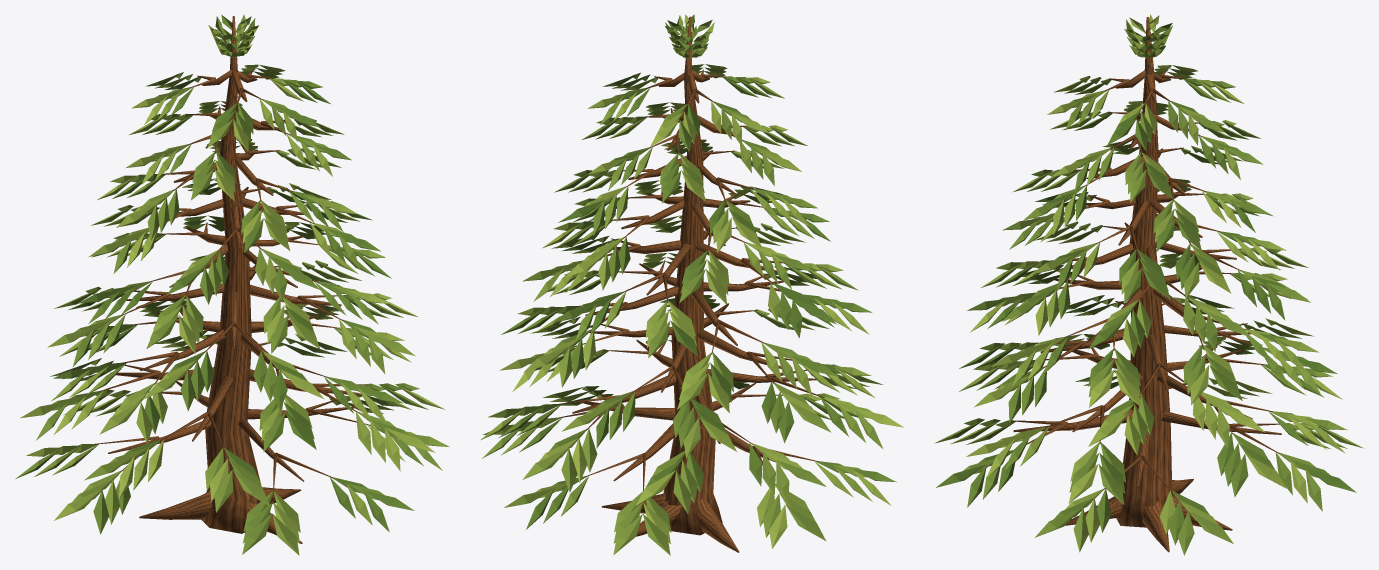
The model's file is SculptedSpruce_LOD2.glb.
3 renders of one model, left to right at view 1: azimuth 30°, elevation 25°; view 2: azimuth 150°, elevation 25°; view 3: azimuth 270°, elevation 25°, orthographic.
Parts seen in each view (by area): view 1: SM_SculptedSpruce_Foliage_LOD2, SM_SculptedSpruce_Bark_LOD2; view 2: SM_SculptedSpruce_Foliage_LOD2, SM_SculptedSpruce_Bark_LOD2; view 3: SM_SculptedSpruce_Foliage_LOD2, SM_SculptedSpruce_Bark_LOD2.
Boxes of the visible parts, x1,y1,x2,y2 form: SM_SculptedSpruce_Foliage_LOD2: (15, 14, 449, 555); SM_SculptedSpruce_Bark_LOD2: (95, 16, 370, 543); SM_SculptedSpruce_Foliage_LOD2: (480, 14, 903, 555); SM_SculptedSpruce_Bark_LOD2: (557, 16, 824, 552); SM_SculptedSpruce_Foliage_LOD2: (934, 14, 1363, 555); SM_SculptedSpruce_Bark_LOD2: (1013, 17, 1281, 552).
Bounding box in the file's own units: 6.86 × 8.65 × 6.79.
Materials: 2 (2 with a texture image).
